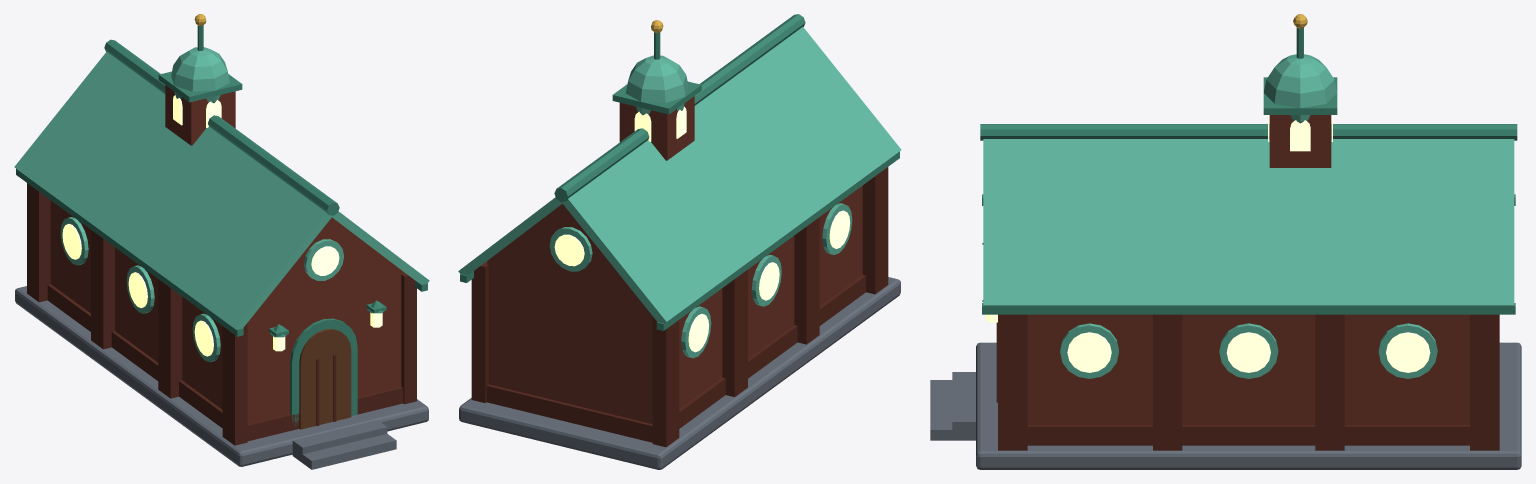
File: hall.glb
3 views of the same model, side by side, from view 1: azimuth 30°, elevation 25°; view 2: azimuth 150°, elevation 25°; view 3: azimuth 270°, elevation 25° (orthographic). The views are drawn at different scales.
Parts seen in each view (by area): view 1: Hall; view 2: Hall; view 3: Hall.
Boxes of the visible parts, <box> form: Hall: <box>14,14,429,469</box>; Hall: <box>458,14,901,469</box>; Hall: <box>930,14,1521,469</box>.
Size of the model in its own units: 1.84 by 3 by 4.01.
